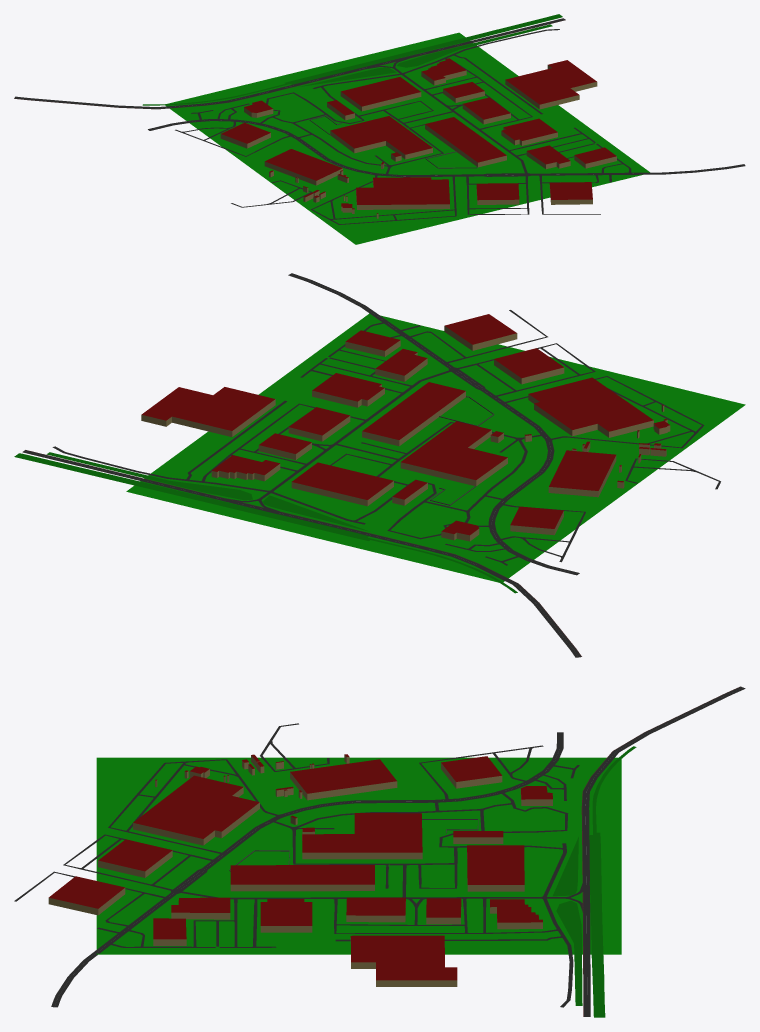
File: servercenter.obj
3 renders of one model, top to bottom at view 1: azimuth 30°, elevation 25°; view 2: azimuth 150°, elevation 25°; view 3: azimuth 270°, elevation 25°, orthographic. The views are drawn at different scales.
Visible parts, largest first — view 1: SurfaceArea277, SurfaceArea278, SurfaceArea279, SurfaceArea280, Building273, Building246, Building 2820 Northwestern Parkway, Building269, Road Central Expressway, Building240, Road Walsh Avenue, SurfaceArea268 (+13 smaller); view 2: SurfaceArea278, SurfaceArea277, SurfaceArea279, SurfaceArea280, Building273, Building246, Building 2820 Northwestern Parkway, Building269, Building240, SurfaceArea268, Road Central Expressway, Building270 (+13 smaller); view 3: SurfaceArea278, SurfaceArea277, SurfaceArea279, SurfaceArea280, Building273, Building246, Building 2820 Northwestern Parkway, Building269, Building270, Building240, Road Central Expressway, Road Walsh Avenue (+15 smaller).
Part boxes in pixels (box(x1,y1,x2,y2)): SurfaceArea277: box(250, 125, 539, 244); SurfaceArea278: box(165, 59, 433, 166); SurfaceArea279: box(454, 99, 649, 199); SurfaceArea280: box(349, 32, 525, 121); Building273: box(356, 177, 449, 209); Building246: box(505, 60, 597, 109); Building 2820 Northwestern Parkway: box(330, 116, 432, 159); Building269: box(425, 117, 506, 167); Road Central Expressway: box(14, 18, 565, 109); Building240: box(340, 77, 421, 111); Road Walsh Avenue: box(148, 119, 745, 177); SurfaceArea268: box(142, 14, 562, 105); SurfaceArea278: box(267, 447, 609, 582); SurfaceArea277: box(377, 347, 745, 503); SurfaceArea279: box(258, 313, 510, 445); SurfaceArea280: box(126, 418, 374, 525); Building273: box(528, 377, 653, 437); Building246: box(141, 387, 275, 436); Building 2820 Northwestern Parkway: box(400, 421, 507, 485); Building269: box(362, 382, 465, 446); Building240: box(291, 462, 393, 506); SurfaceArea268: box(14, 453, 517, 593); Road Central Expressway: box(22, 450, 581, 657); Building270: box(548, 450, 616, 497); SurfaceArea278: box(388, 757, 621, 880); SurfaceArea277: box(96, 757, 388, 880); SurfaceArea279: box(96, 881, 388, 954); SurfaceArea280: box(388, 881, 621, 954); Building273: box(133, 775, 259, 845); Building246: box(350, 935, 457, 986); Building 2820 Northwestern Parkway: box(302, 813, 422, 859); Building269: box(230, 865, 374, 891); Building270: box(290, 759, 397, 800); Building240: box(467, 845, 524, 891); Road Central Expressway: box(581, 686, 745, 1016); Road Walsh Avenue: box(51, 732, 563, 1007).
Size of the model in its own units: 806 by 7.5 by 753.
